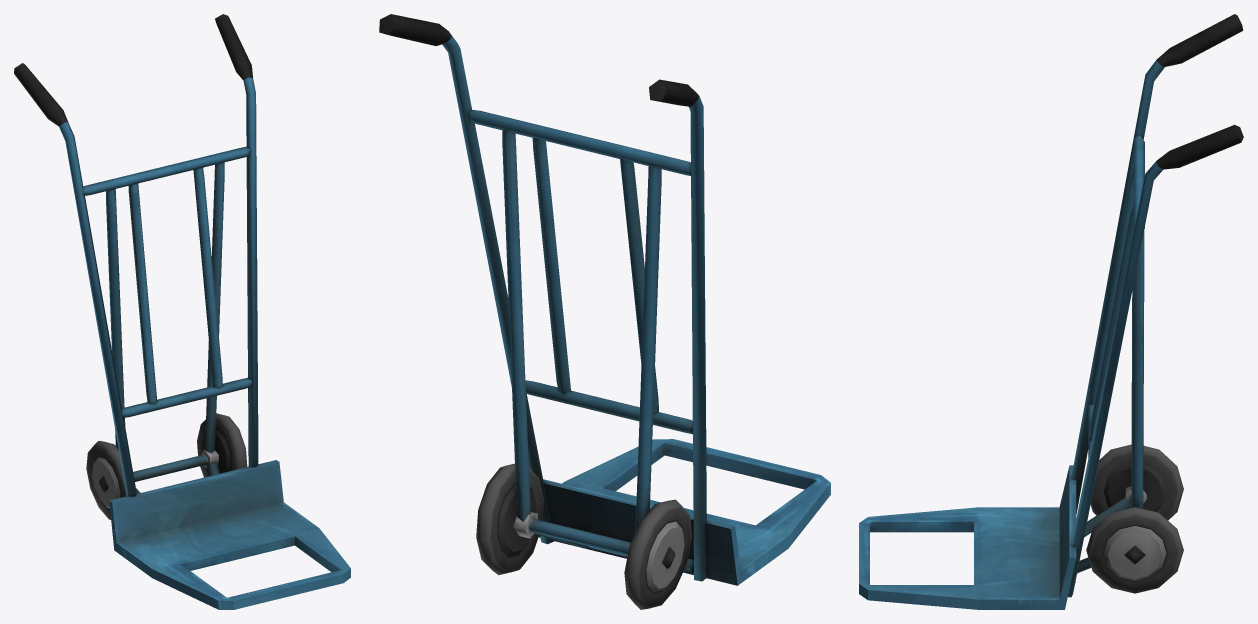
File: Boggy.FBX
The picture shows the model from 3 angles, left to right: view 1: azimuth 30°, elevation 25°; view 2: azimuth 150°, elevation 25°; view 3: azimuth 270°, elevation 25°; orthographic projection. The views are drawn at different scales.
Visible parts, largest first — view 1: sm_boggy; view 2: sm_boggy; view 3: sm_boggy.
Part boxes in pixels (x1=…): sm_boggy: x1=14, y1=14, x2=350, y2=609; sm_boggy: x1=379, y1=14, x2=830, y2=609; sm_boggy: x1=859, y1=14, x2=1243, y2=609.
Bounding box in the file's own units: 54.37 × 106 × 74.69.
Materials: 1 (1 with a texture image).
